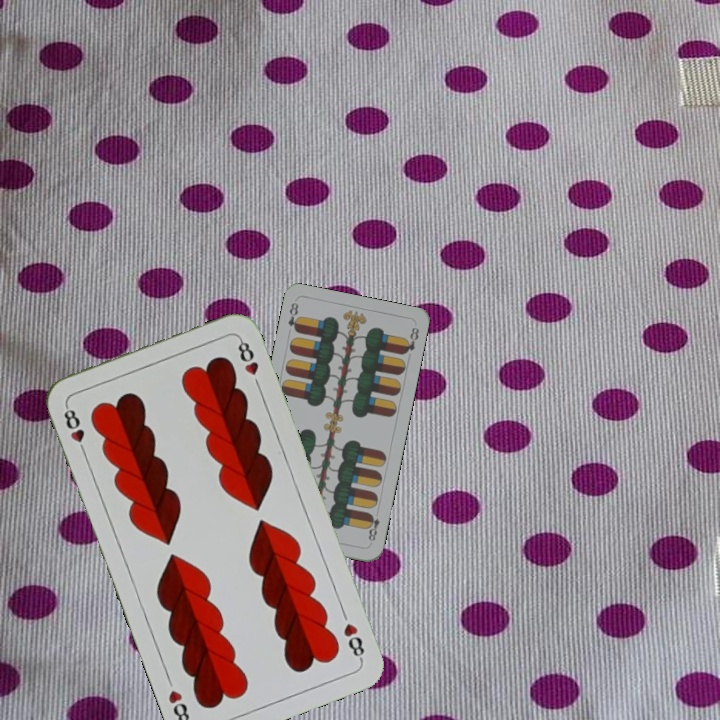E8: (284, 298, 303, 335), (363, 510, 382, 546)
H8: (59, 401, 89, 458), (339, 619, 367, 664)
